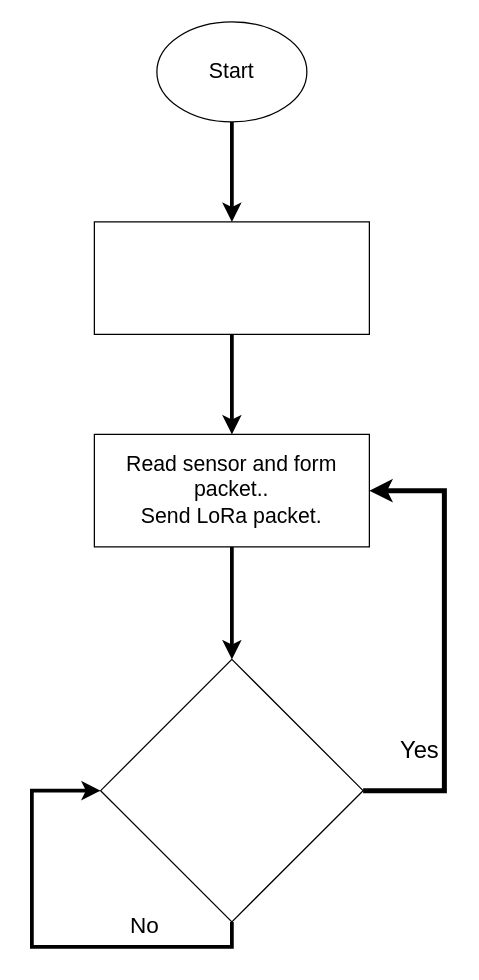
Image size: 479x980. Some labels were removed from this diagram. Each missing label, with the box of its shape:
Register node: (93, 221, 369, 334)
x minutes passed?: (99, 658, 363, 922)
